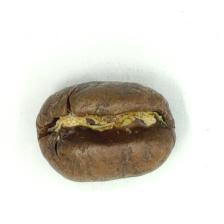NG: (50, 96, 161, 169)
